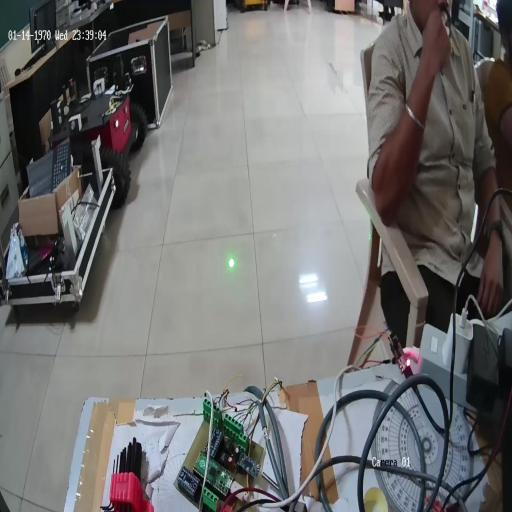laser: (226, 250, 236, 276)
